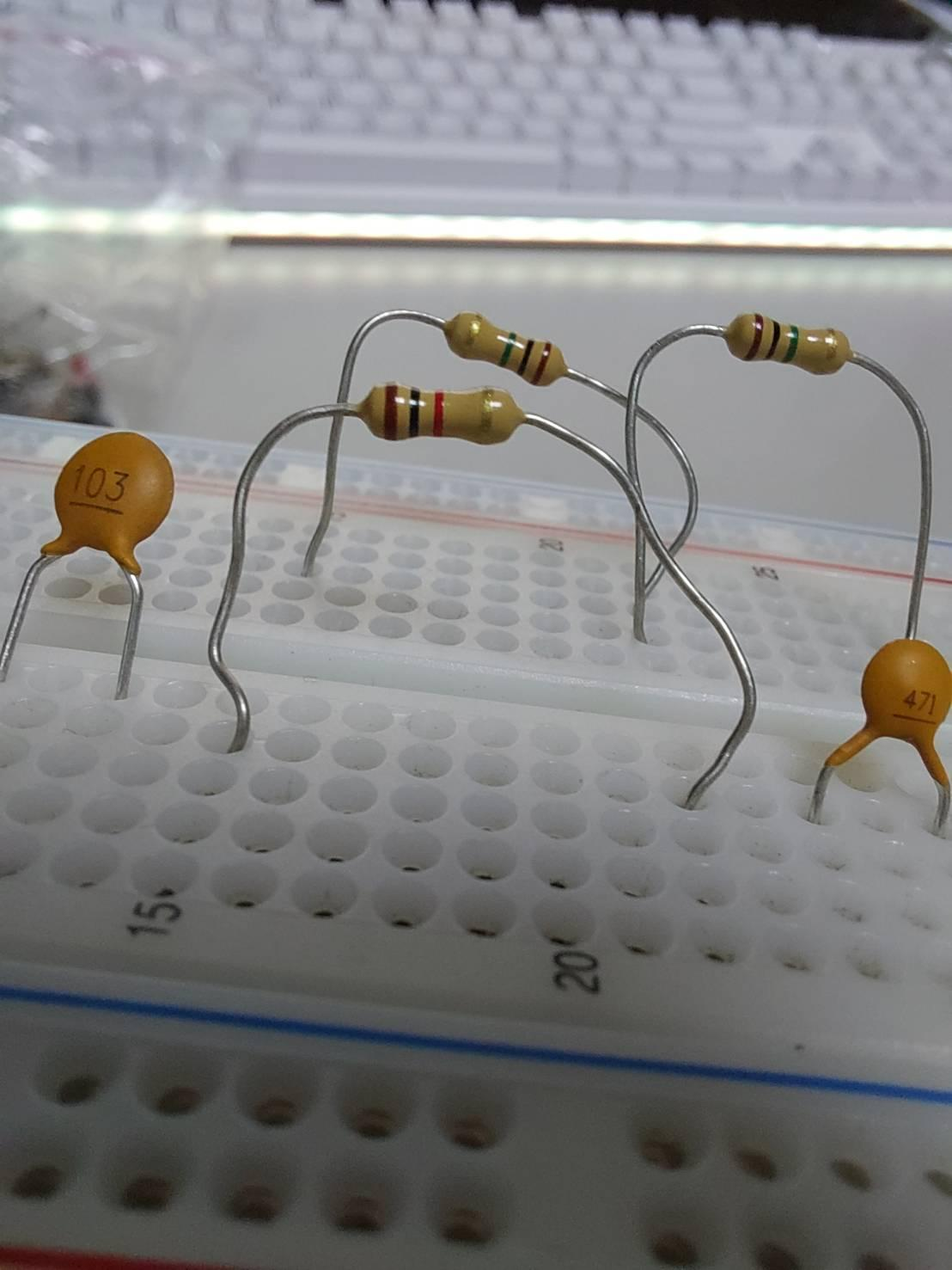resistor: (357, 376, 525, 451), (448, 305, 576, 387), (725, 314, 854, 380)
